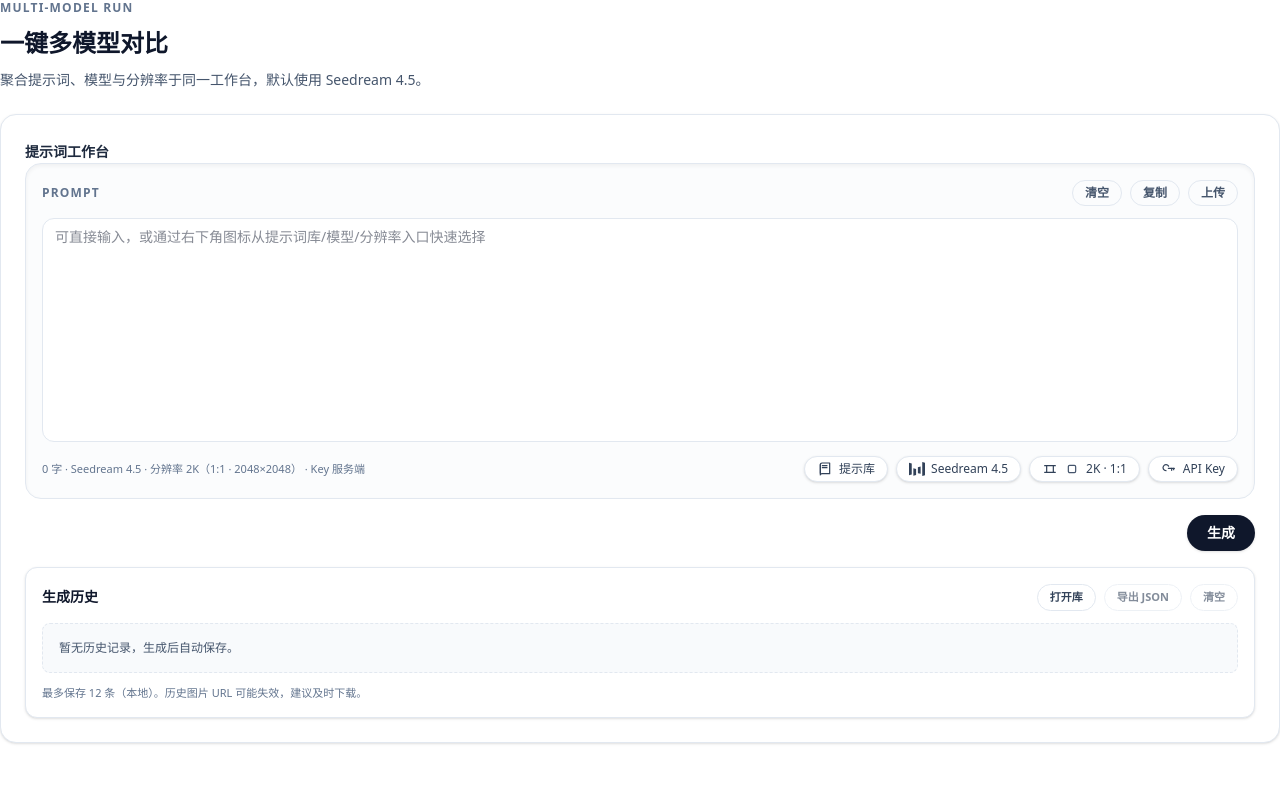
Scenario: GenerateClient (MSW) › generates successfully and writes history
Type "hello world" into the text box with placeholder "可直接输入，或通过右下角图标从提示词库/模型/分辨率入口快速选择" at [640, 330], box [42,218,1238,442]
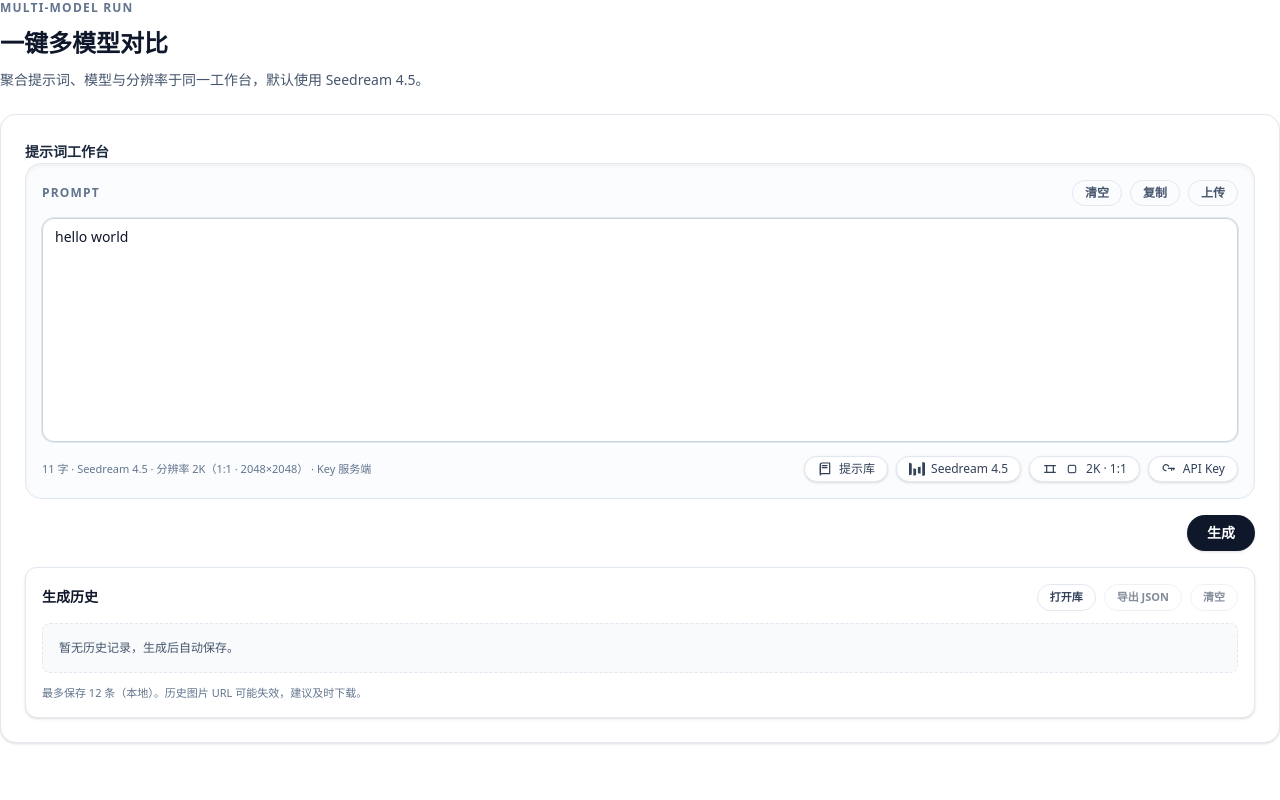
Click the button "生成" at [1221, 533], box [1187,515,1255,551]
(page scrolled)
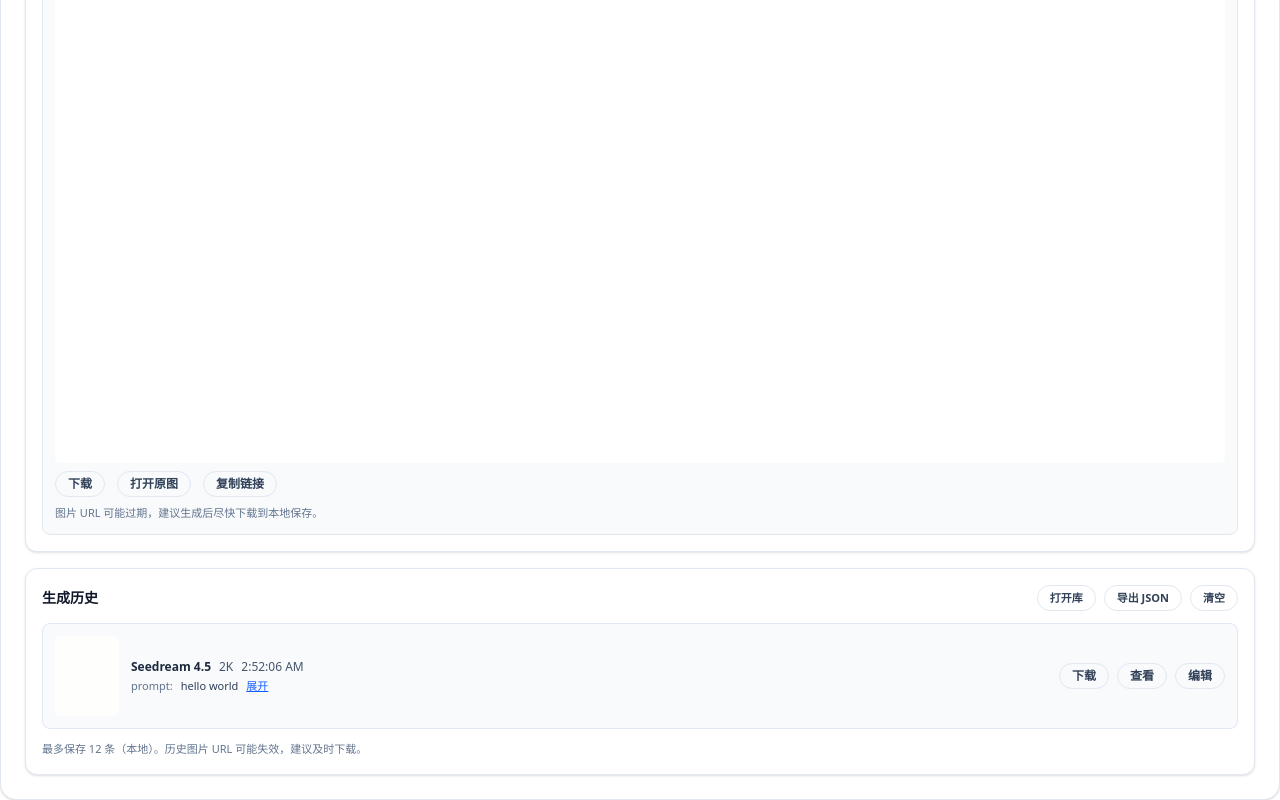
Expected: the text titled "hello world" is shown, [181,679,238,693]
